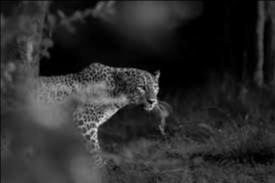Non_Gorille: (21, 35, 184, 158)
